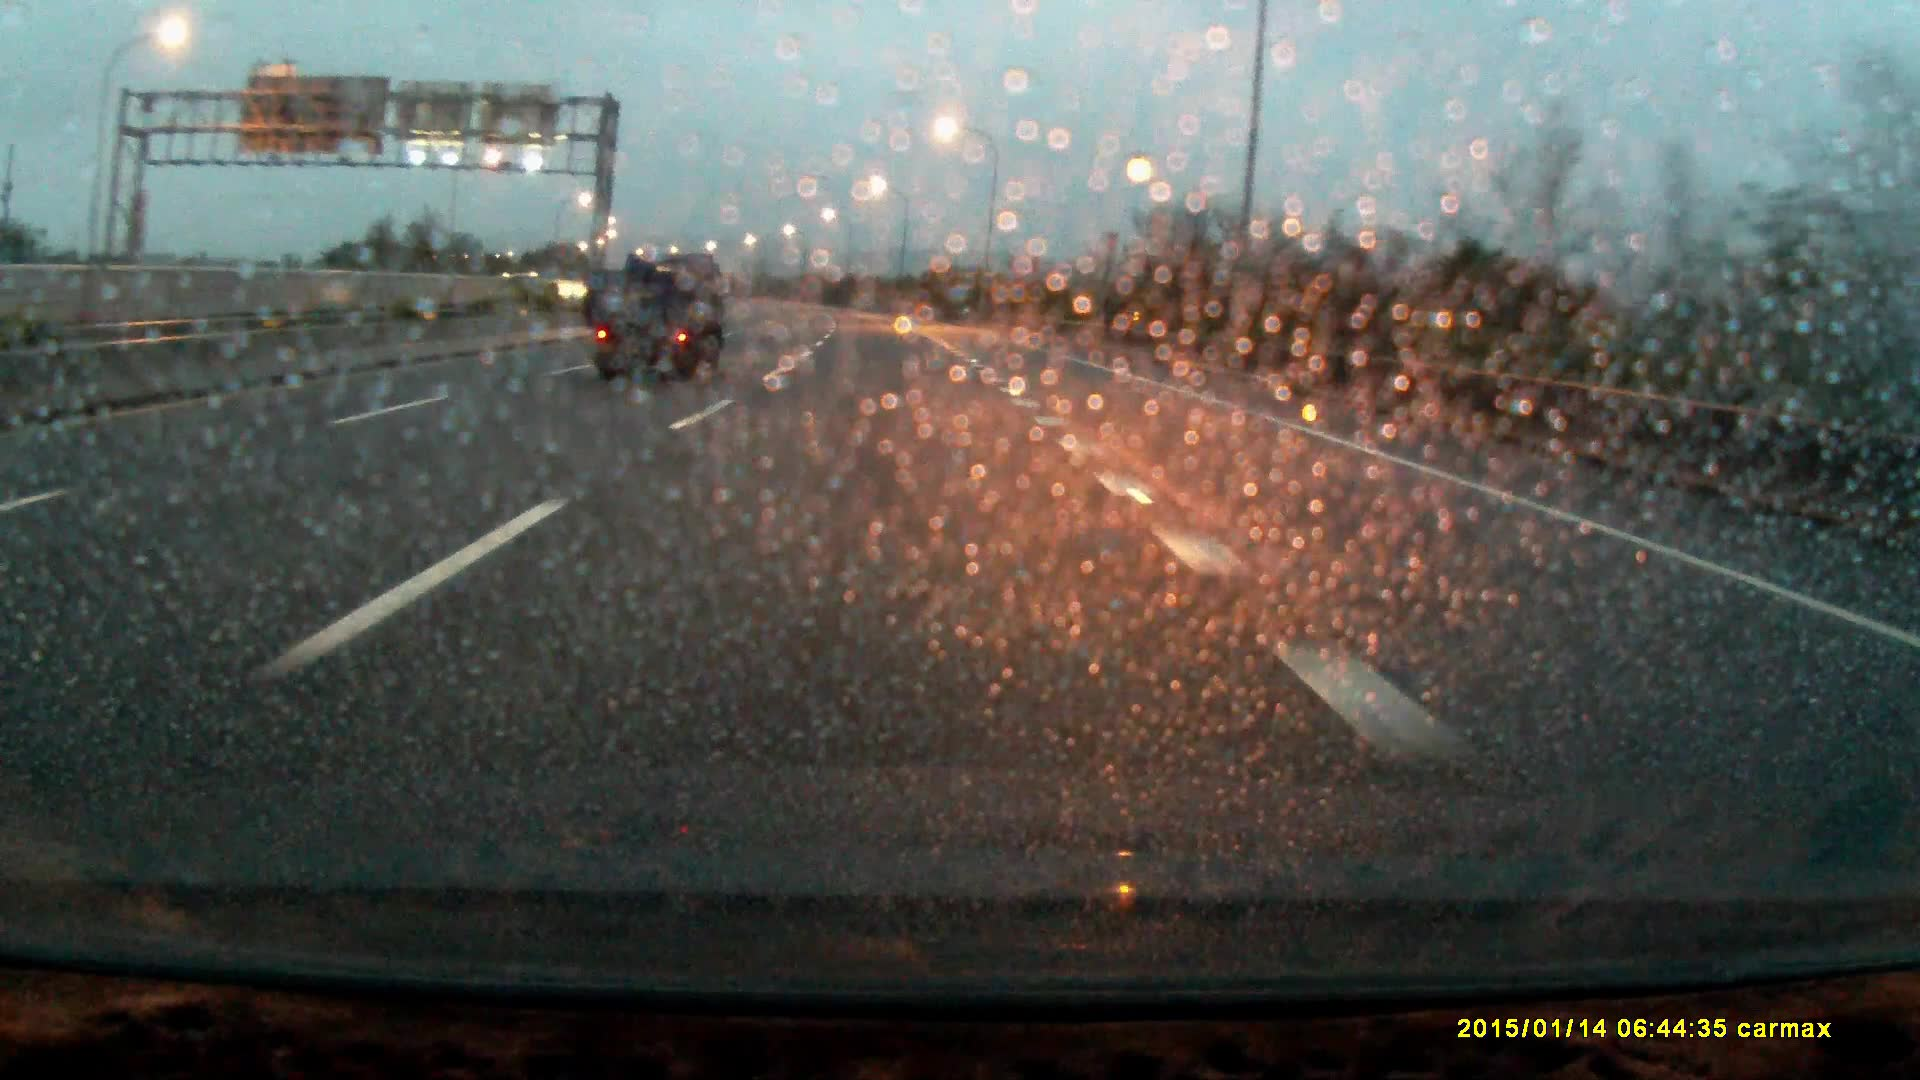vehicle: (589, 255, 731, 380), (501, 274, 576, 309)
